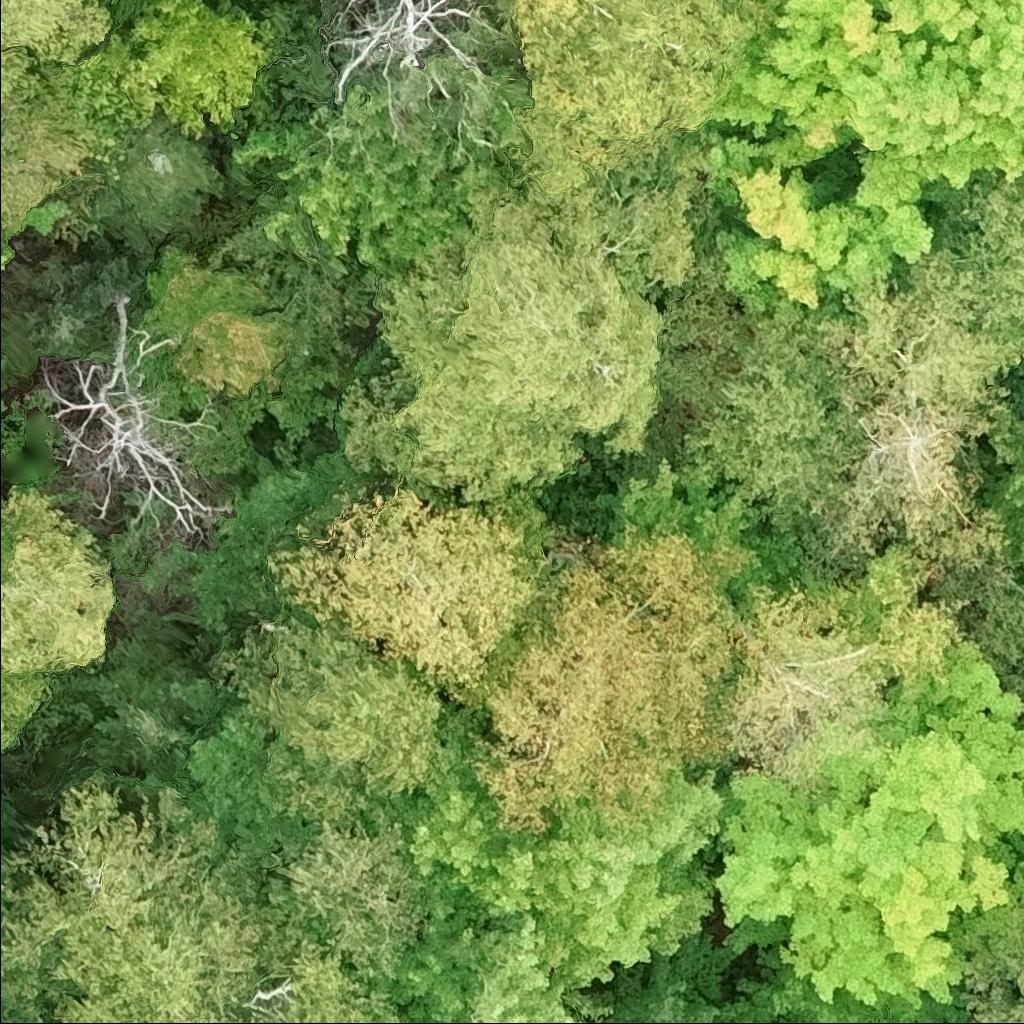crown: (331, 111, 704, 508), (666, 249, 1023, 588), (714, 640, 1023, 1023), (699, 0, 1023, 318), (472, 521, 751, 839), (0, 773, 289, 1023), (267, 485, 562, 708), (212, 606, 492, 829), (733, 539, 972, 799), (227, 80, 511, 282), (41, 292, 237, 550), (523, 0, 779, 195), (529, 765, 725, 991), (593, 450, 817, 615), (0, 483, 118, 755), (255, 815, 428, 990), (136, 238, 301, 419), (47, 29, 202, 183), (207, 906, 408, 1023), (393, 907, 594, 1023), (0, 65, 117, 256), (323, 0, 482, 138), (404, 771, 543, 927), (98, 114, 227, 239), (936, 176, 1023, 359), (21, 250, 149, 358), (929, 558, 1023, 698), (0, 0, 115, 104), (985, 415, 1023, 572), (963, 967, 1023, 1023), (510, 0, 593, 39), (918, 981, 976, 1023), (0, 255, 14, 274), (0, 802, 3, 818), (0, 491, 5, 499)
